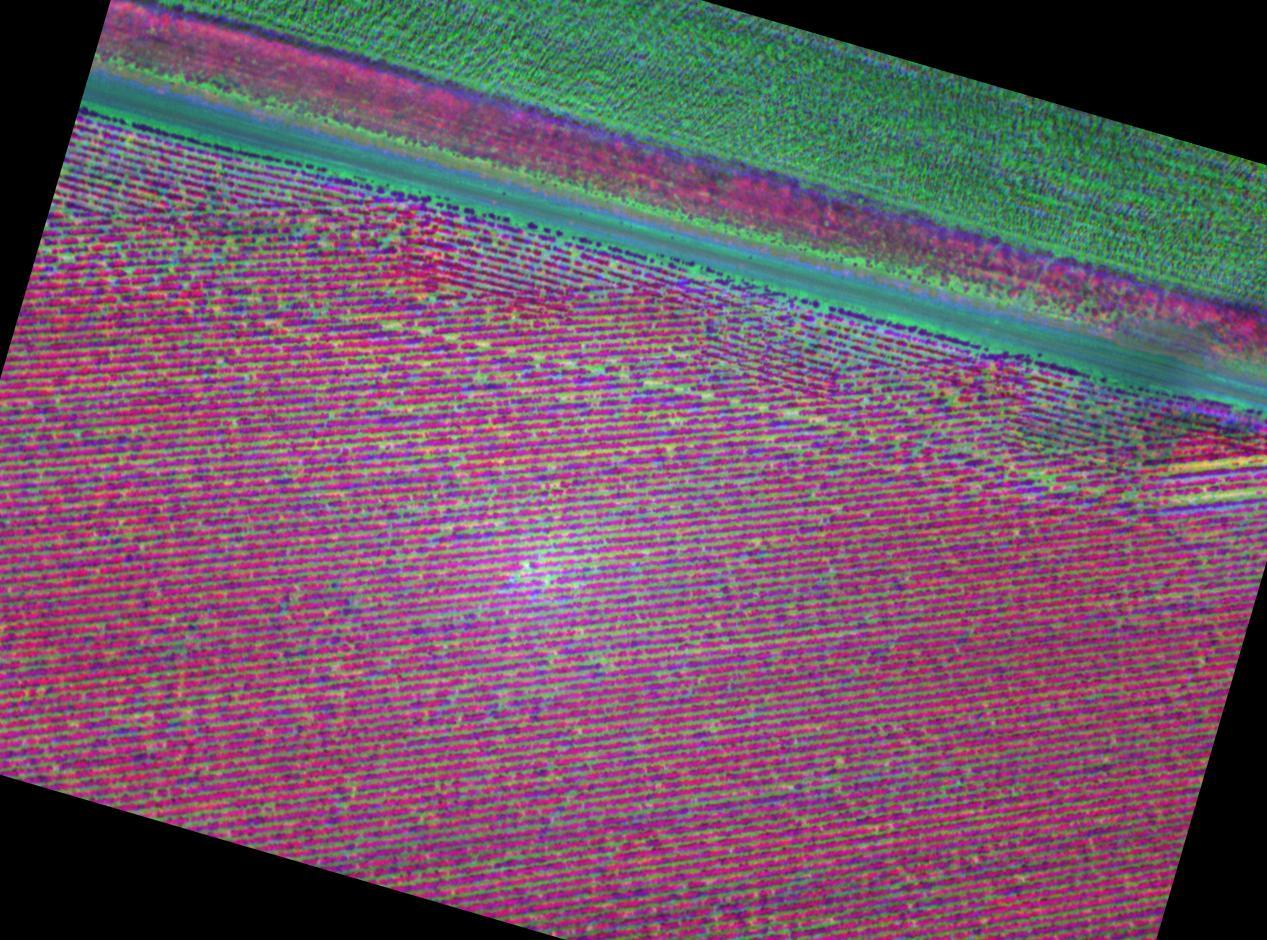dc: (1028, 470, 1033, 476), (594, 366, 598, 371), (1096, 488, 1100, 492), (951, 395, 954, 400), (329, 411, 332, 415), (779, 336, 782, 339), (390, 405, 393, 408), (127, 535, 131, 537), (470, 399, 472, 402), (147, 460, 150, 462)
